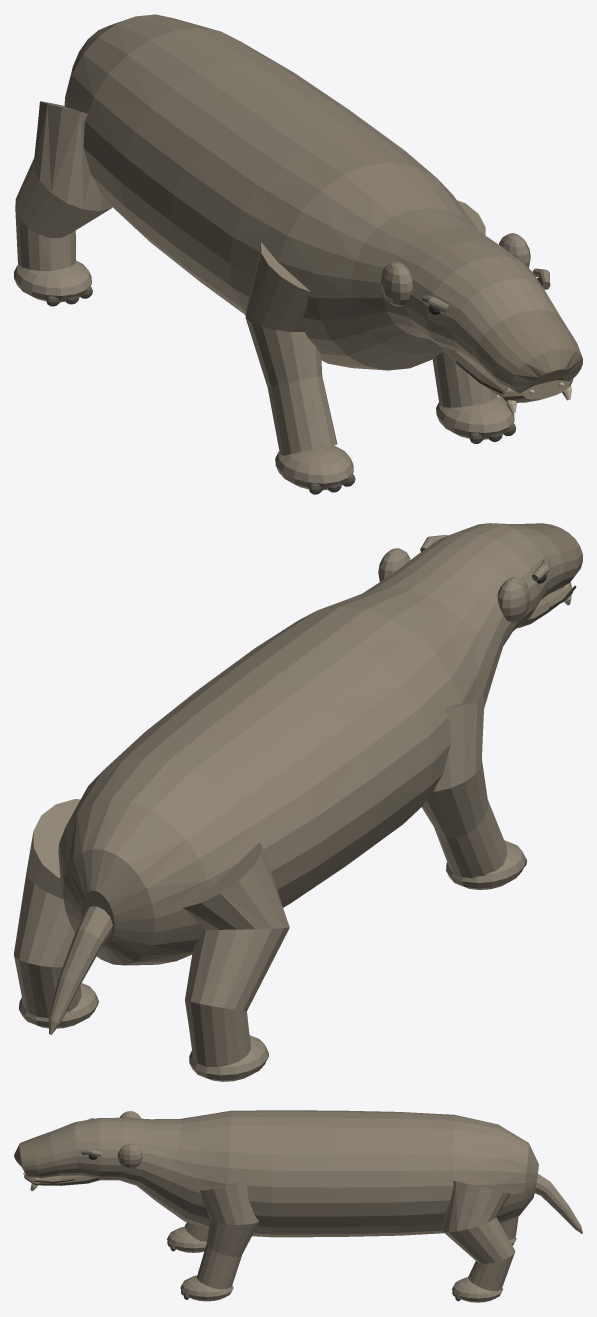
3 views of the same model, one above another, from view 1: azimuth 30°, elevation 25°; view 2: azimuth 150°, elevation 25°; view 3: azimuth 270°, elevation 25° (orthographic). The views are drawn at different scales.
Parts seen in each view (by area): view 1: Integrated_low_head_neck_long_barrel, Forelimb_short_flexed_R, Hindlimb_short_flexed_R, Forefoot_support_R, Forelimb_short_flexed_L, Forefoot_support_L, Hindfoot_support_R, Restrained_lower_lip, Small_ear_R, Small_ear_L; view 2: Integrated_low_head_neck_long_barrel, Hindlimb_short_flexed_R, Forelimb_short_flexed_R, Hindlimb_short_flexed_L, Modest_tapering_tail, Hindfoot_support_R, Forefoot_support_R, Hindfoot_support_L, Small_ear_R; view 3: Integrated_low_head_neck_long_barrel, Hindlimb_short_flexed_L, Forelimb_short_flexed_L, Modest_tapering_tail, Forefoot_support_L, Hindfoot_support_L, Forefoot_support_R, Restrained_lower_lip, Small_ear_L, Forelimb_short_flexed_R, Hindlimb_short_flexed_R.
Boxes of the visible parts, bbox=[...] form: Integrated_low_head_neck_long_barrel: bbox=[64, 14, 582, 393]; Forelimb_short_flexed_R: bbox=[245, 242, 337, 455]; Hindlimb_short_flexed_R: bbox=[15, 101, 112, 270]; Forefoot_support_R: bbox=[275, 445, 353, 490]; Forelimb_short_flexed_L: bbox=[432, 200, 496, 407]; Forefoot_support_L: bbox=[436, 396, 514, 439]; Hindfoot_support_R: bbox=[14, 260, 91, 302]; Restrained_lower_lip: bbox=[442, 346, 573, 402]; Small_ear_R: bbox=[380, 261, 412, 306]; Small_ear_L: bbox=[499, 233, 530, 267]; Integrated_low_head_neck_long_barrel: bbox=[58, 523, 582, 965]; Hindlimb_short_flexed_R: bbox=[181, 842, 289, 1067]; Forelimb_short_flexed_R: bbox=[421, 697, 507, 878]; Hindlimb_short_flexed_L: bbox=[14, 799, 81, 1017]; Modest_tapering_tail: bbox=[48, 906, 112, 1034]; Hindfoot_support_R: bbox=[189, 1035, 267, 1081]; Forefoot_support_R: bbox=[446, 840, 525, 889]; Hindfoot_support_L: bbox=[19, 983, 97, 1028]; Small_ear_R: bbox=[497, 577, 530, 622]; Integrated_low_head_neck_long_barrel: bbox=[14, 1110, 538, 1237]; Hindlimb_short_flexed_L: bbox=[441, 1180, 515, 1291]; Forelimb_short_flexed_L: bbox=[196, 1180, 258, 1289]; Modest_tapering_tail: bbox=[534, 1174, 582, 1233]; Forefoot_support_L: bbox=[180, 1275, 233, 1301]; Hindfoot_support_L: bbox=[452, 1277, 503, 1302]; Forefoot_support_R: bbox=[167, 1226, 206, 1252]; Restrained_lower_lip: bbox=[24, 1172, 100, 1185]; Small_ear_L: bbox=[117, 1144, 142, 1168]; Forelimb_short_flexed_R: bbox=[184, 1222, 208, 1241]; Hindlimb_short_flexed_R: bbox=[500, 1216, 518, 1239].
Bounding box in the file's own units: 0.6666 × 0.7 × 2.3.
